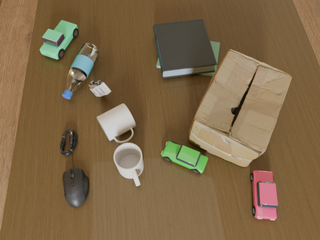book: (153, 19, 217, 78)
bottle: (62, 43, 99, 99)
box: (188, 50, 292, 167)
cup: (97, 104, 136, 143), (114, 143, 144, 186)
mouse: (63, 167, 89, 207)
toy_car: (162, 141, 208, 174), (40, 20, 78, 59), (250, 170, 278, 220), (89, 80, 111, 97)
